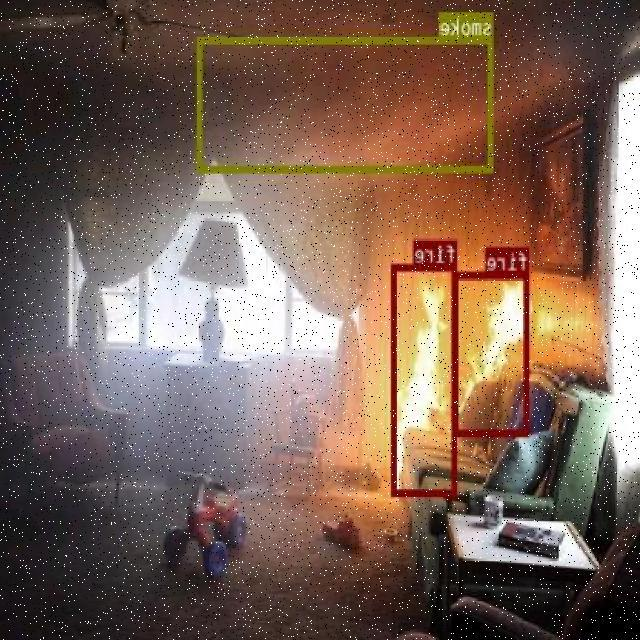smoke: (198, 36, 494, 172)
